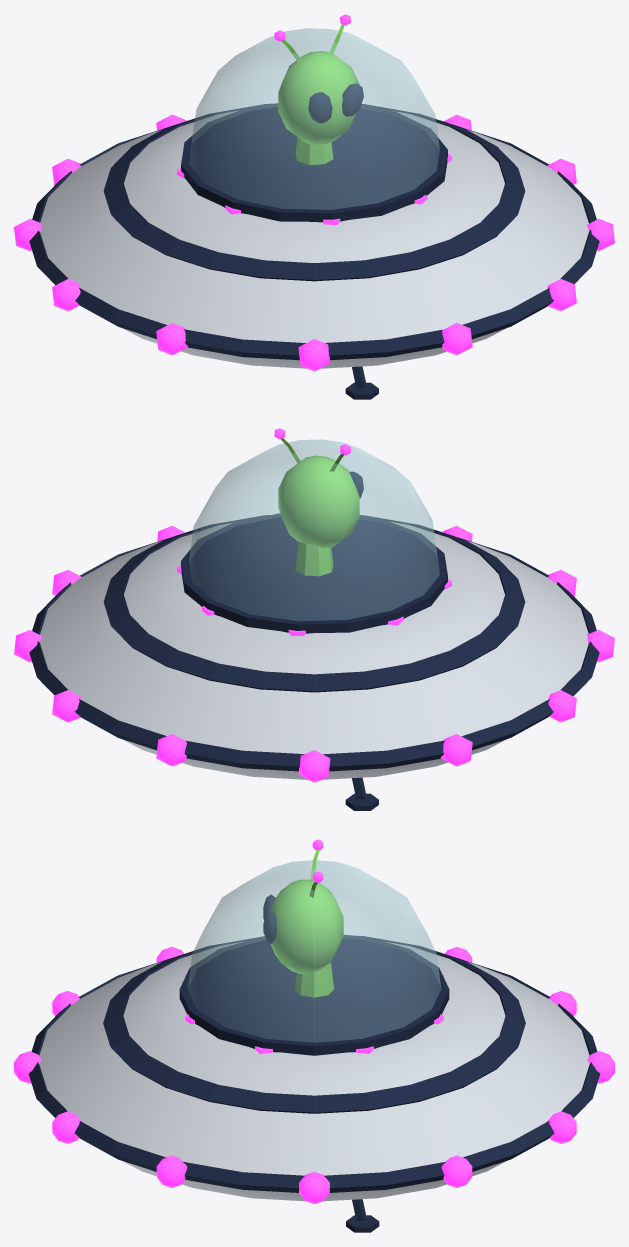
The model's file is ufo.glb.
3 views of the same model, one above another, from view 1: azimuth 30°, elevation 25°; view 2: azimuth 150°, elevation 25°; view 3: azimuth 270°, elevation 25° (orthographic).
Parts seen in each view (by area): view 1: ufo; view 2: ufo; view 3: ufo.
Part boxes in pixels (box(x1,y1,x2,y2)): ufo: box(14, 14, 614, 399); ufo: box(14, 428, 614, 810); ufo: box(14, 839, 614, 1232).
Bounding box in the file's own units: 4.33 × 2.42 × 4.32.
